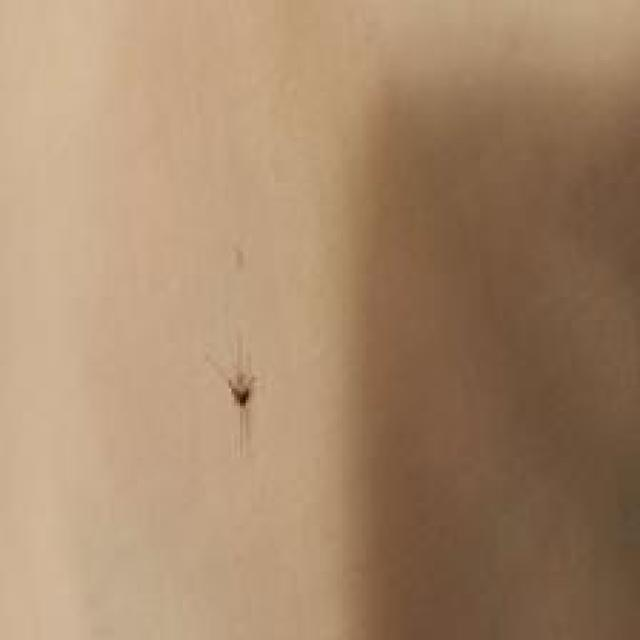Culex: (203, 332, 263, 454)
